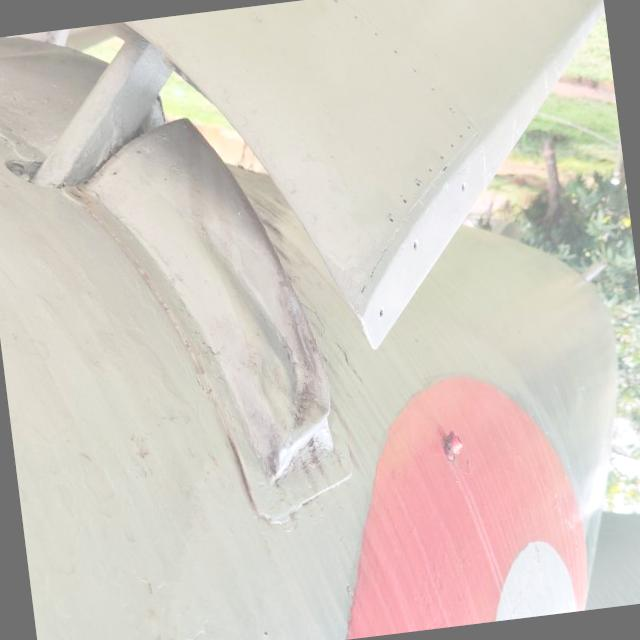dent: (160, 160, 364, 498)
